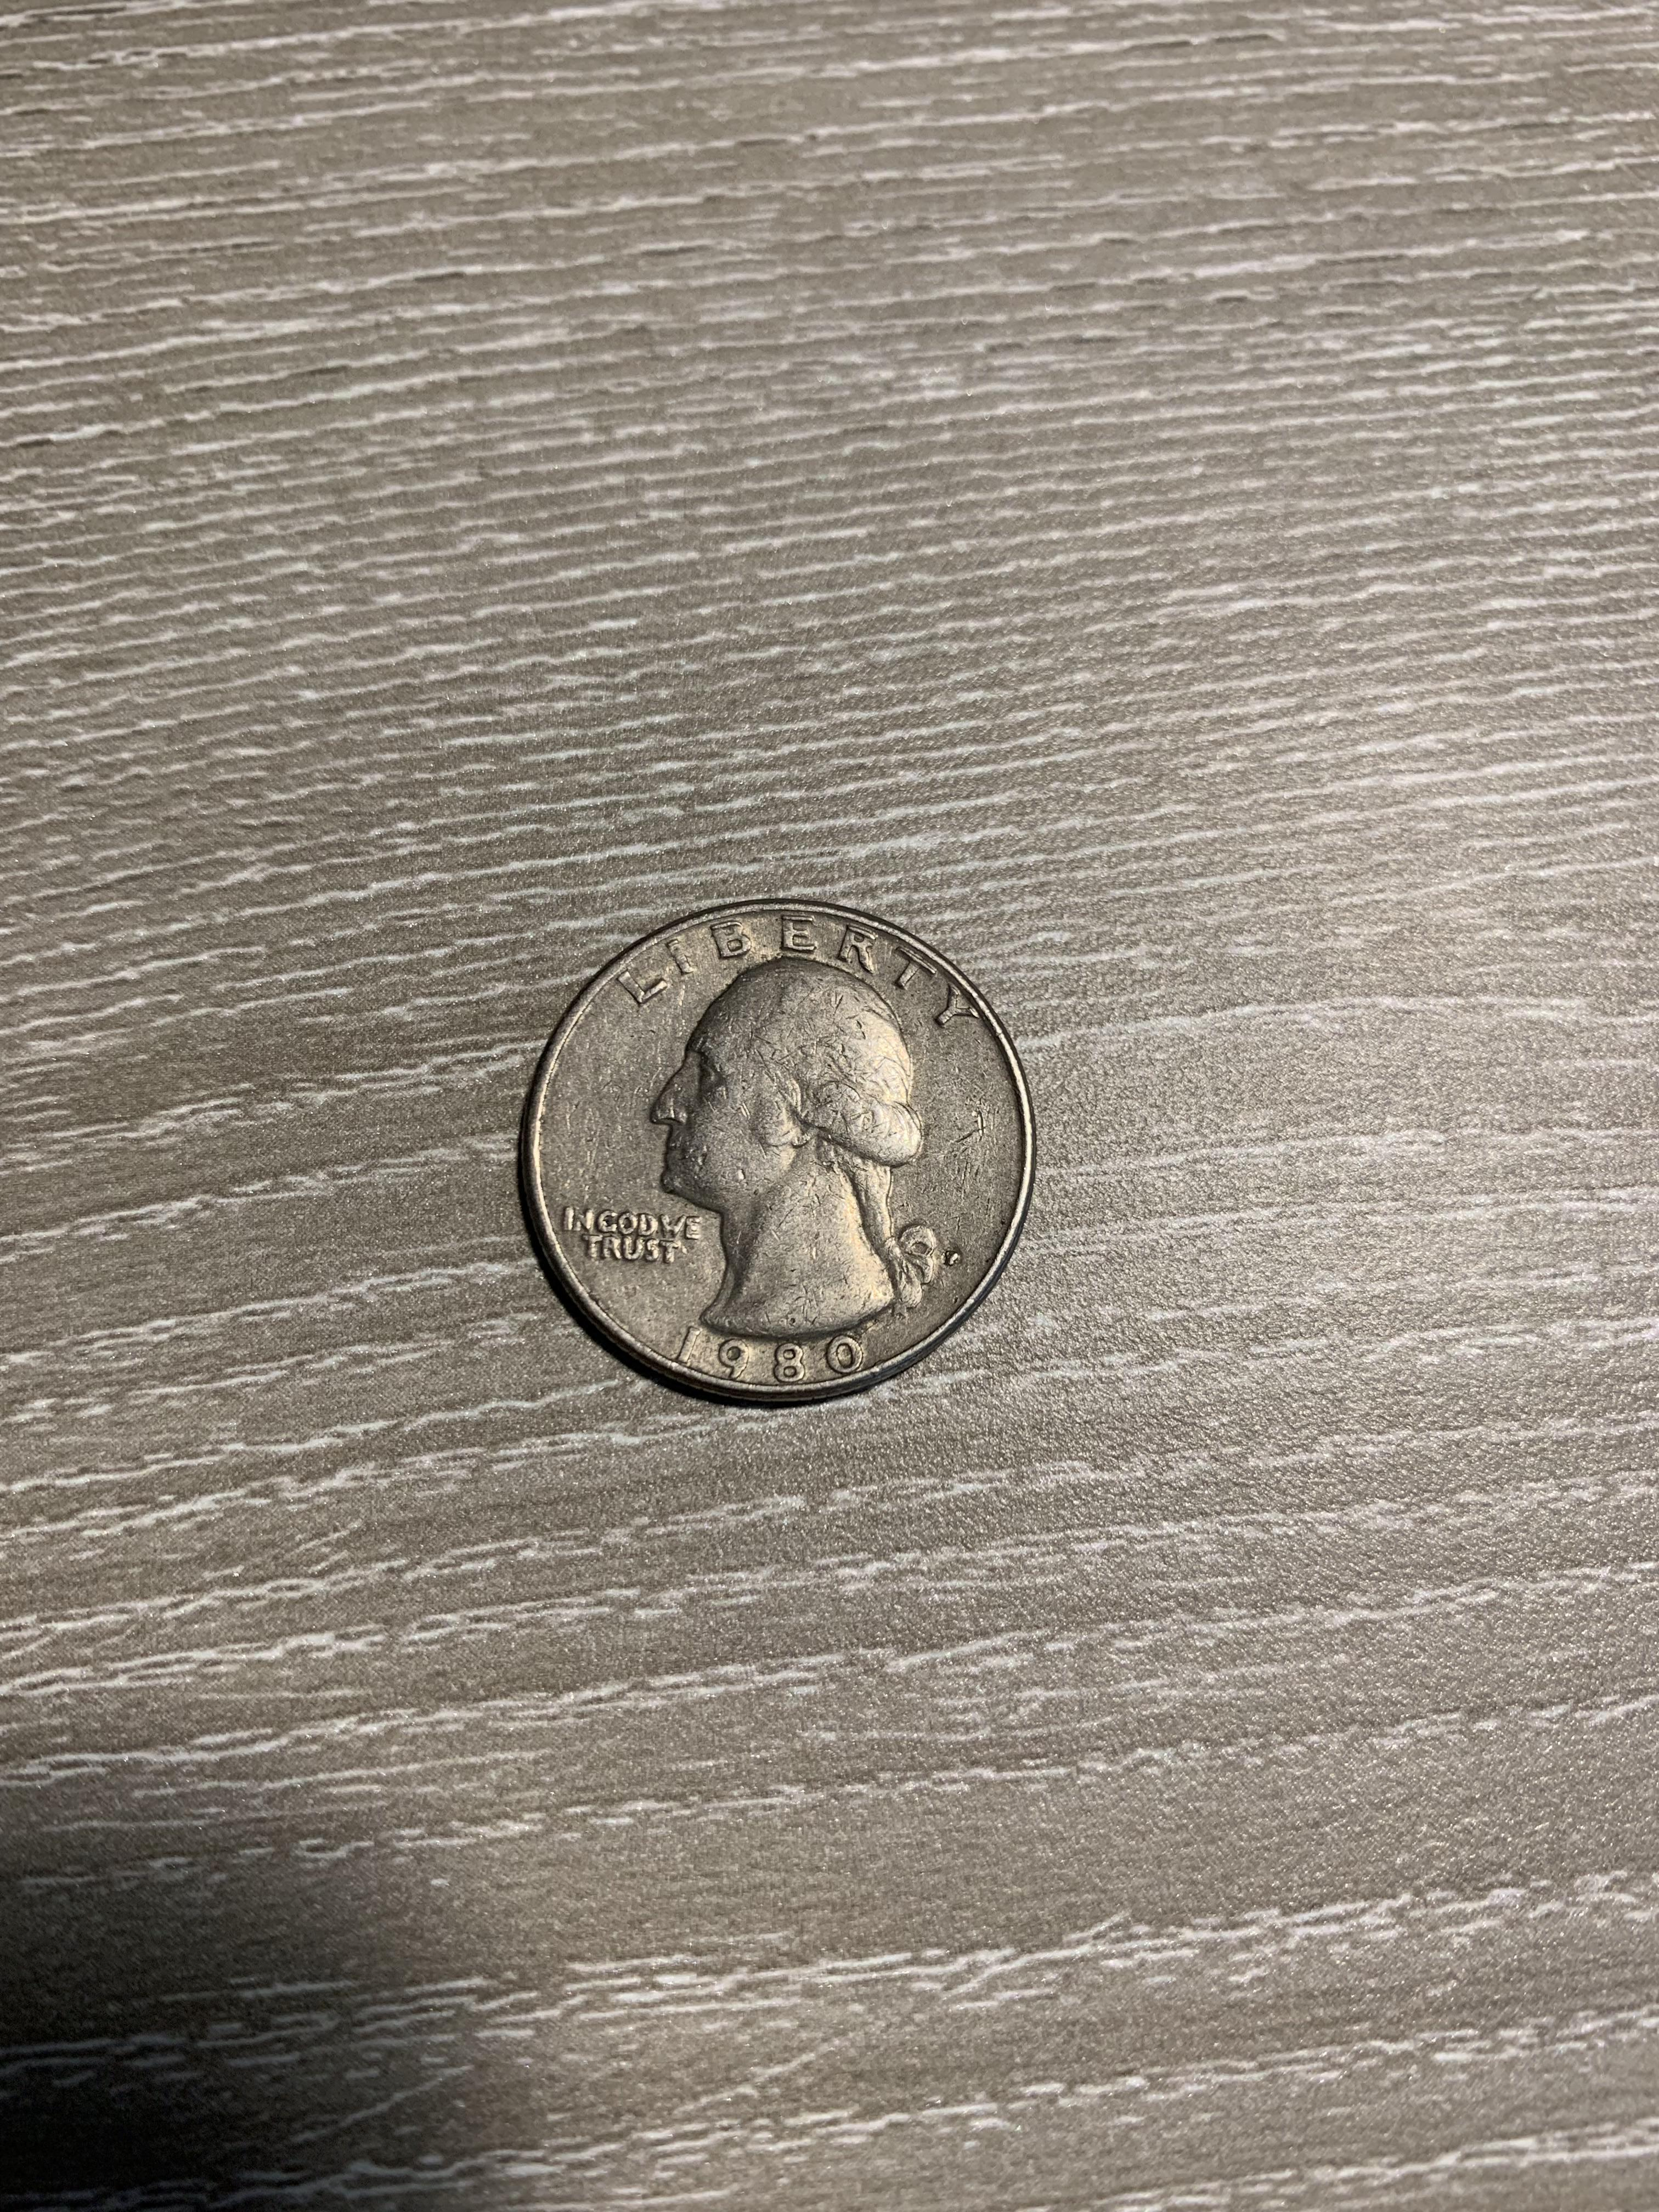Quarter: (498, 873, 1047, 1420)
